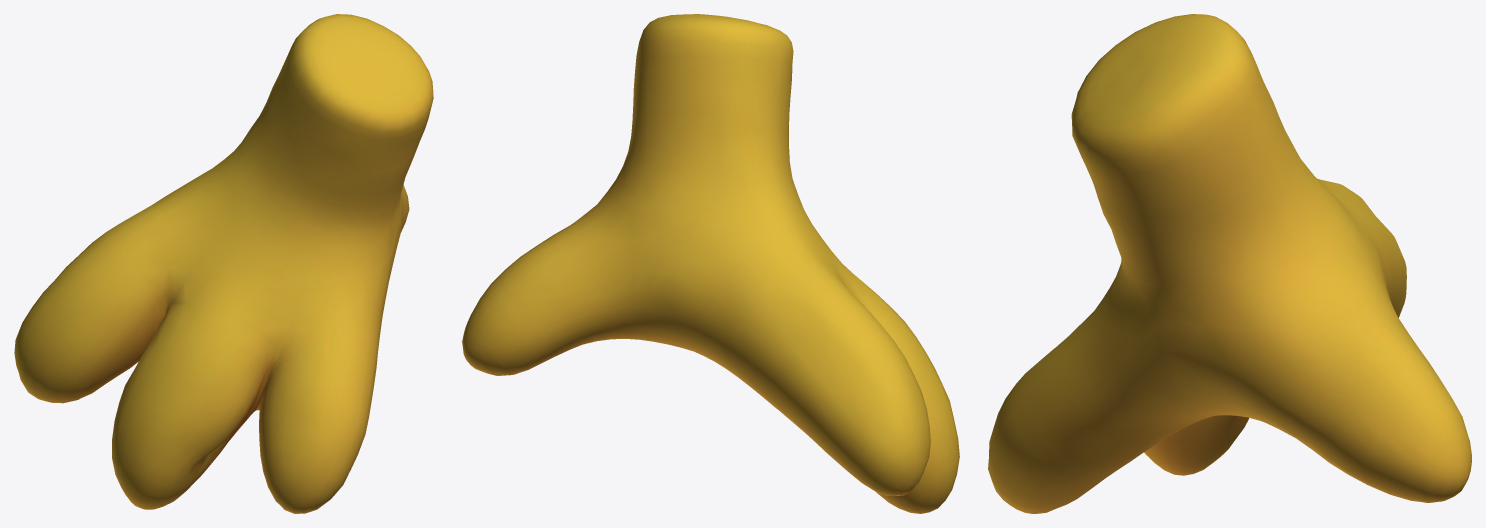
The model's file is tripo_convert_0f3892ce-a5ad-4e27-8718-6e51d90b510f.fbx.
The picture shows the model from 3 angles, left to right: view 1: azimuth 30°, elevation 25°; view 2: azimuth 150°, elevation 25°; view 3: azimuth 270°, elevation 25°; orthographic projection. The views are drawn at different scales.
Visible parts, largest first — view 1: tripo_node_0f3892ce; view 2: tripo_node_0f3892ce; view 3: tripo_node_0f3892ce.
Part boxes in pixels (box(x1,y1,x2,y2)): tripo_node_0f3892ce: box(14, 14, 433, 513); tripo_node_0f3892ce: box(462, 14, 959, 513); tripo_node_0f3892ce: box(988, 14, 1471, 513).
Size of the model in its own units: 0.9515 by 0.9776 by 0.7587.
1 material, 1 textured.
